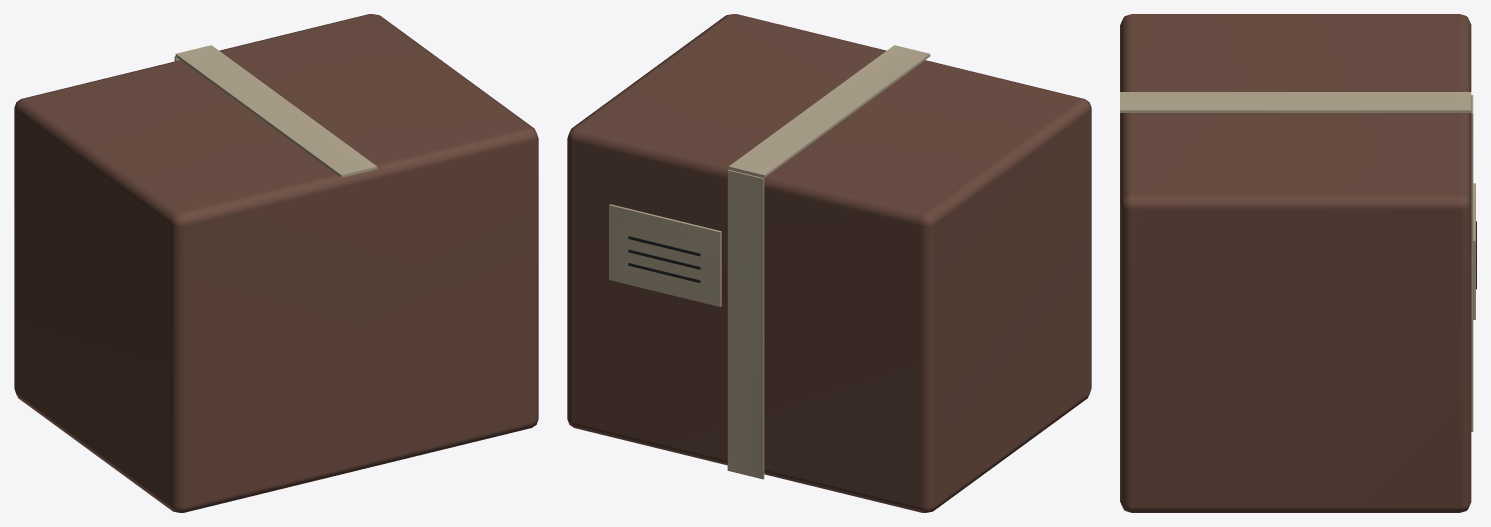
Rendered from prop-cardboard-box-v01.glb.
The picture shows the model from 3 angles, left to right: view 1: azimuth 30°, elevation 25°; view 2: azimuth 150°, elevation 25°; view 3: azimuth 270°, elevation 25°; orthographic projection. The views are drawn at different scales.
Parts seen in each view (by area): view 1: cardboard-box; view 2: cardboard-box; view 3: cardboard-box.
Boxes of the visible parts, box(x1,y1,x2,y2) form: cardboard-box: box(14, 14, 538, 512); cardboard-box: box(567, 14, 1091, 512); cardboard-box: box(1120, 14, 1476, 512).
Bounding box in the file's own units: 0.46 × 0.3635 × 0.3655.
